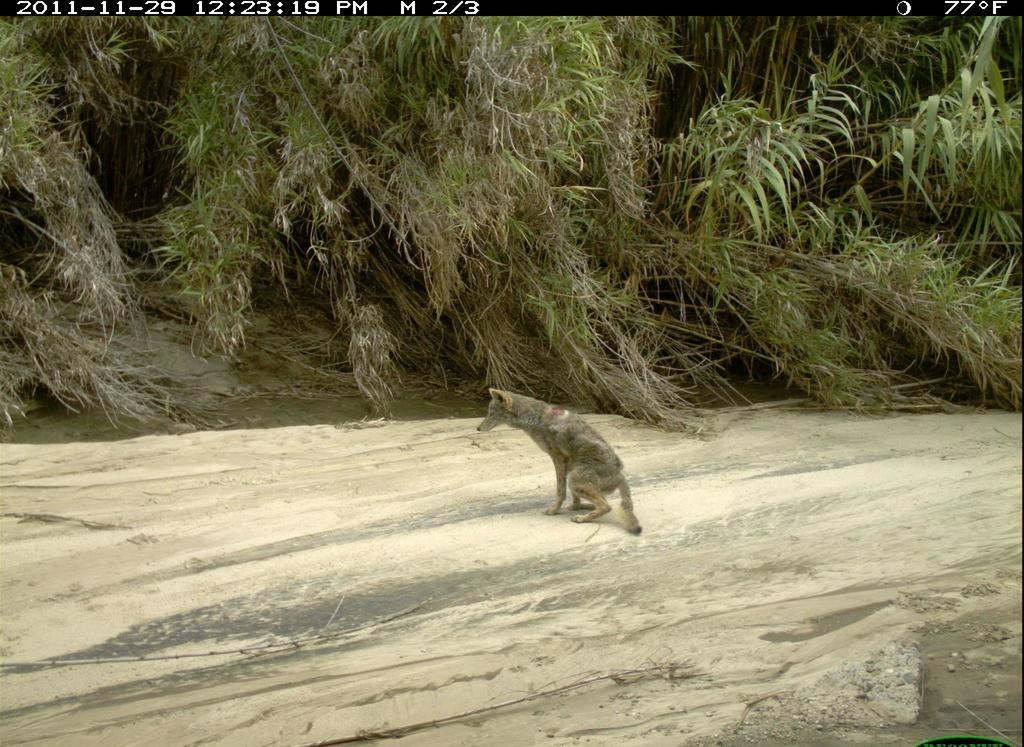coyote: (473, 383, 647, 542)
